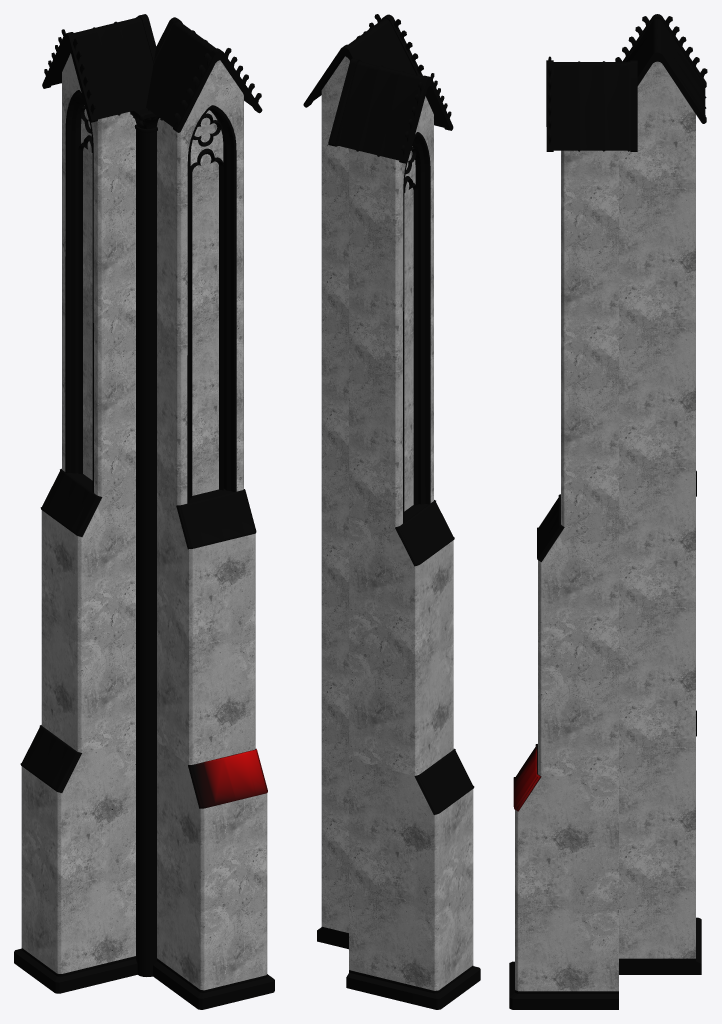
The model's file is SM_Tower_Buttress_01a.fbx.
3 views of the same model, side by side, from view 1: azimuth 30°, elevation 25°; view 2: azimuth 150°, elevation 25°; view 3: azimuth 270°, elevation 25° (orthographic). The views are drawn at different scales.
Parts seen in each view (by area): view 1: SM_Tower_Buttress_01a_LOD0; view 2: SM_Tower_Buttress_01a_LOD0; view 3: SM_Tower_Buttress_01a_LOD0.
Part boxes in pixels (bbox=[...]): SM_Tower_Buttress_01a_LOD0: bbox=[14, 14, 274, 1009]; SM_Tower_Buttress_01a_LOD0: bbox=[303, 14, 480, 1009]; SM_Tower_Buttress_01a_LOD0: bbox=[509, 14, 707, 1009].
Bounding box in the file's own units: 514 × 514 × 2664.
